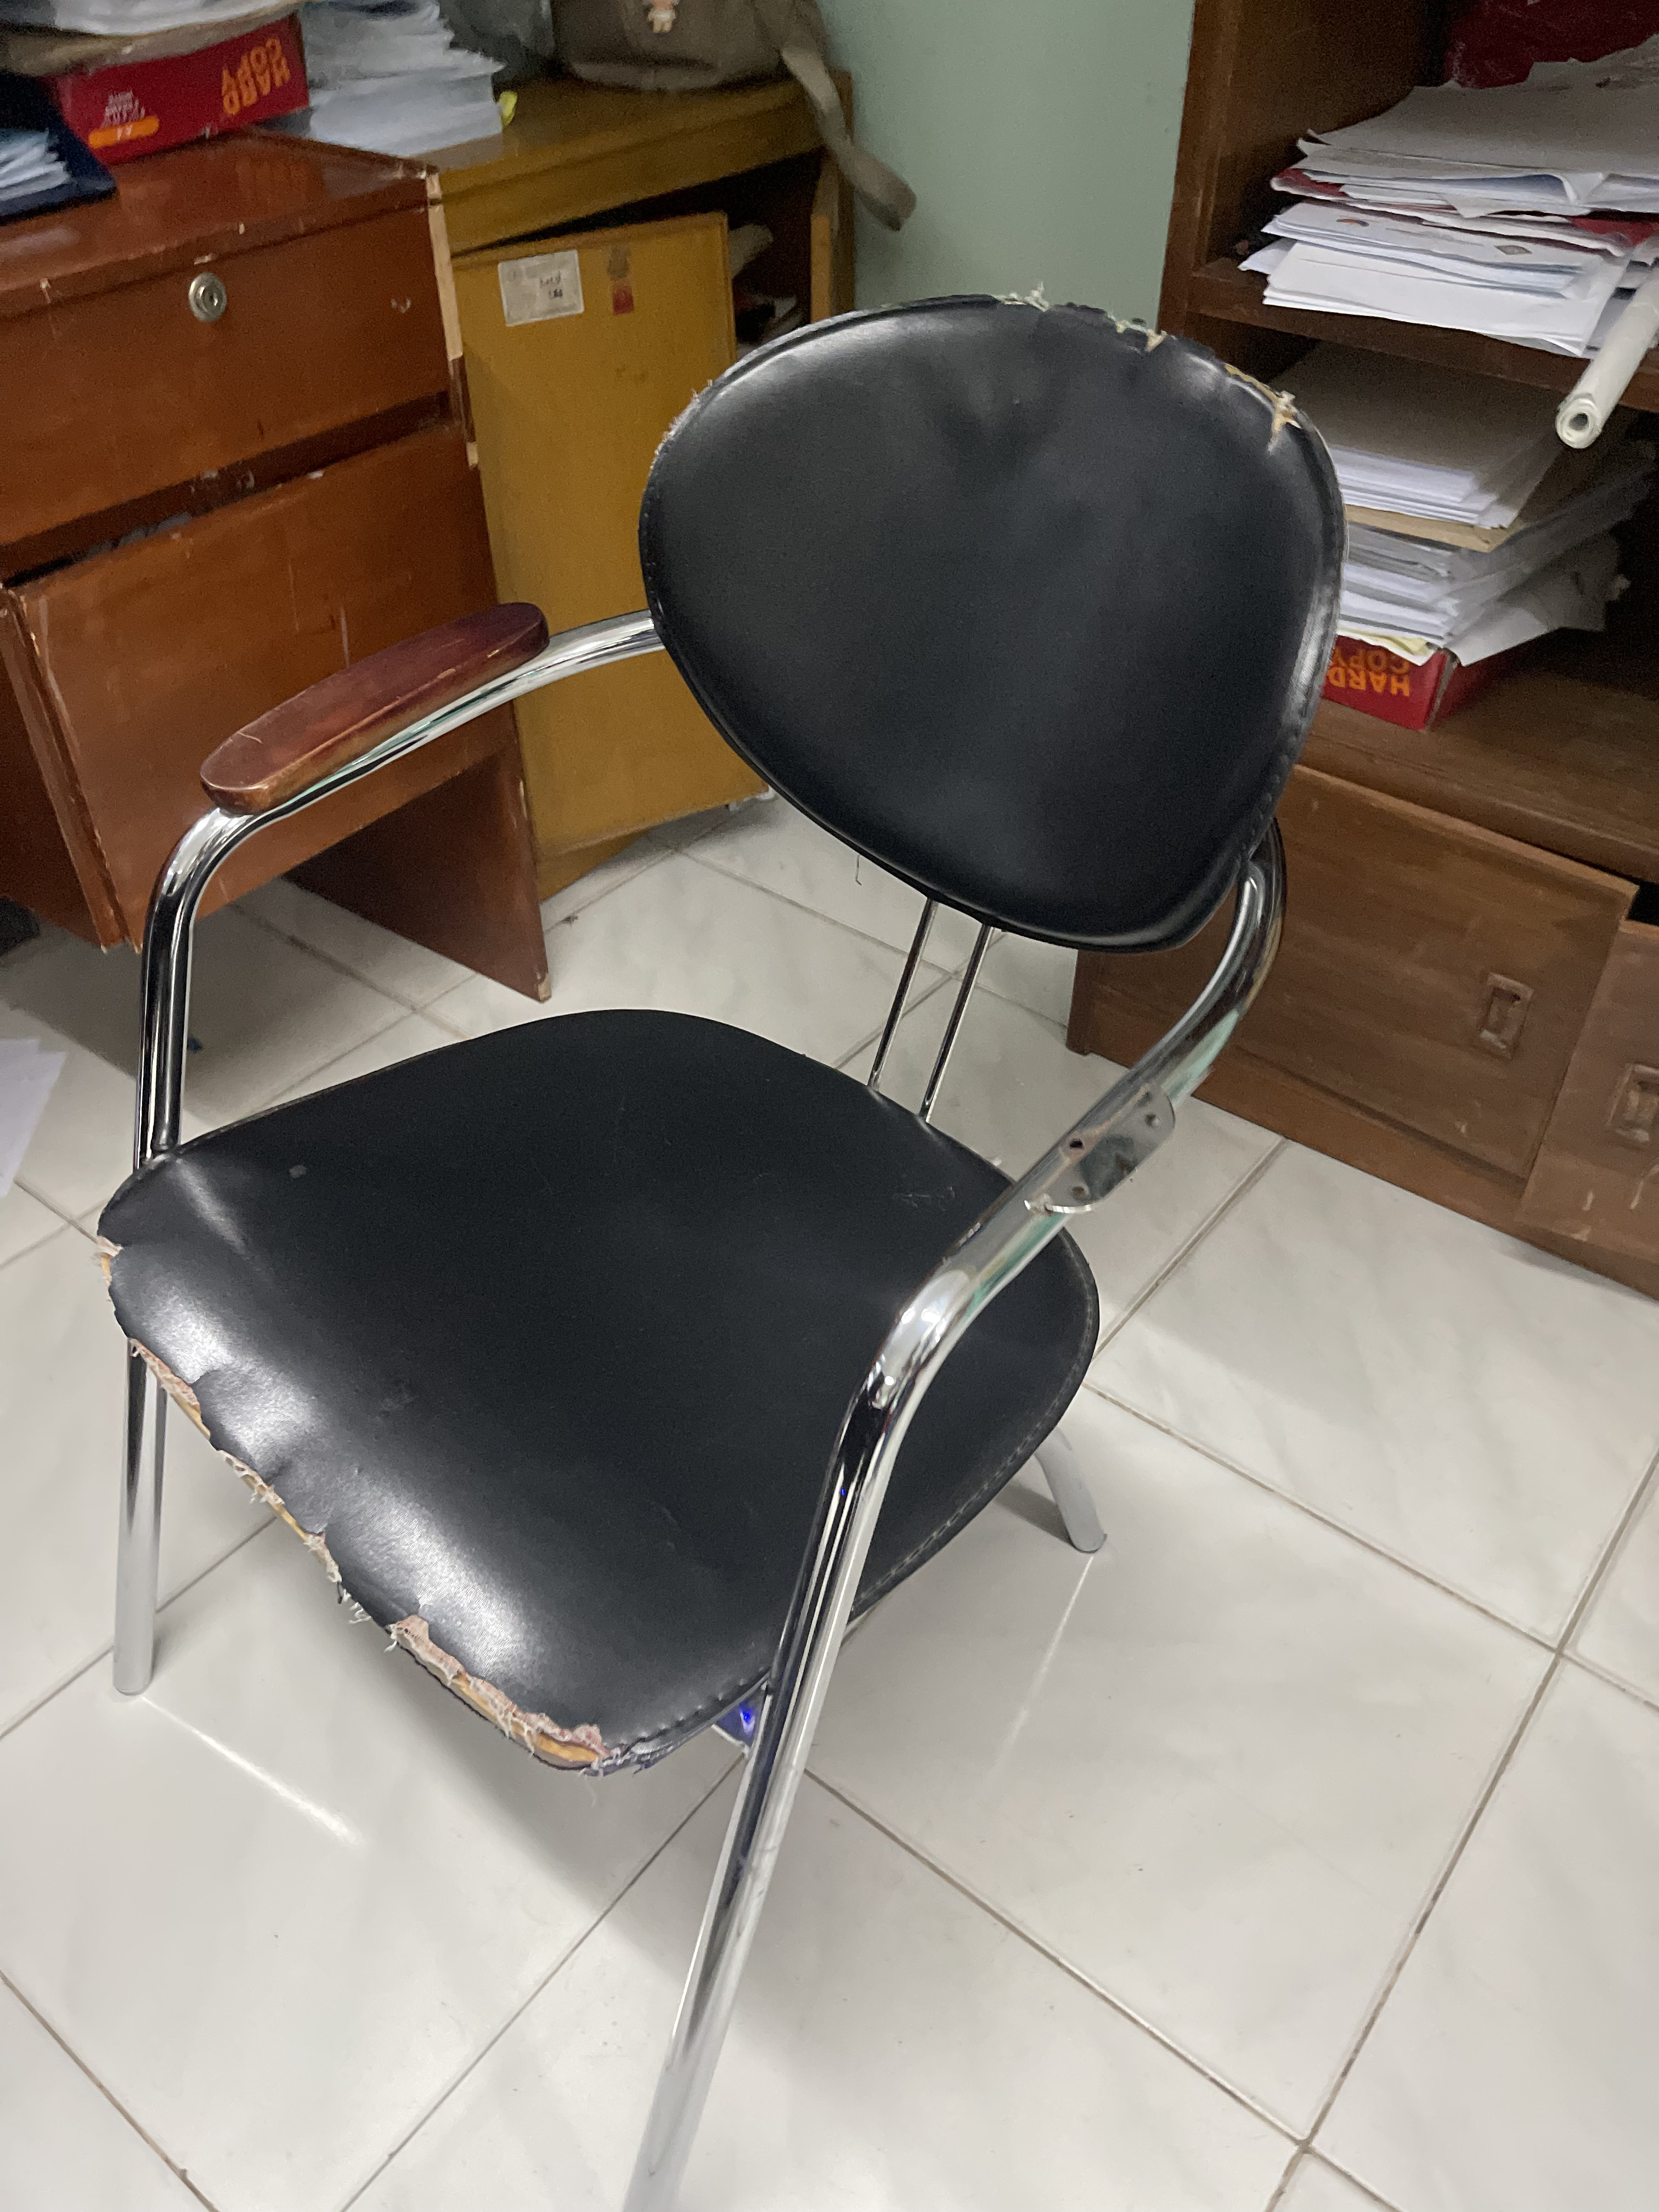chair1: (85, 287, 1356, 2212)
